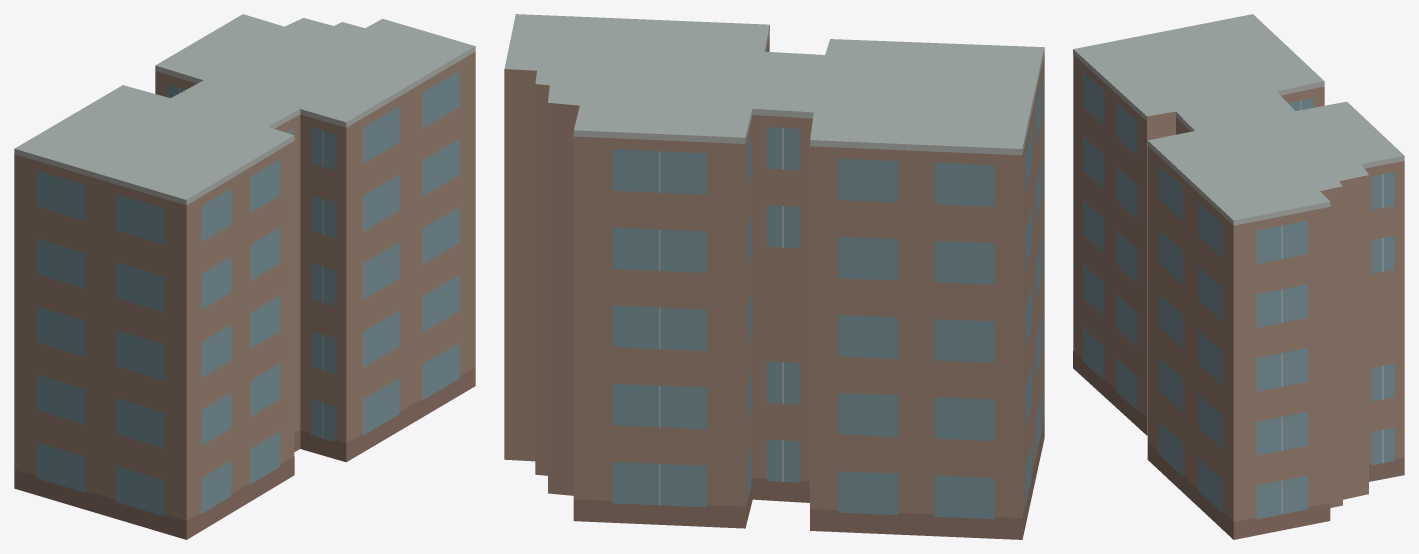
File: survey-upis-32695653.glb
3 renders of one model, left to right at view 1: azimuth 30°, elevation 25°; view 2: azimuth 150°, elevation 25°; view 3: azimuth 270°, elevation 25°, orthographic. The views are drawn at different scales.
Parts seen in each view (by area): view 1: survey-upis-32695653.tmp; view 2: survey-upis-32695653.tmp; view 3: survey-upis-32695653.tmp.
Part boxes in pixels (x1,y1,x2,y2): survey-upis-32695653.tmp: [14, 14, 475, 539]; survey-upis-32695653.tmp: [504, 14, 1044, 539]; survey-upis-32695653.tmp: [1073, 14, 1404, 539].
Size of the model in its own units: 21.18 by 15.25 by 14.36.
